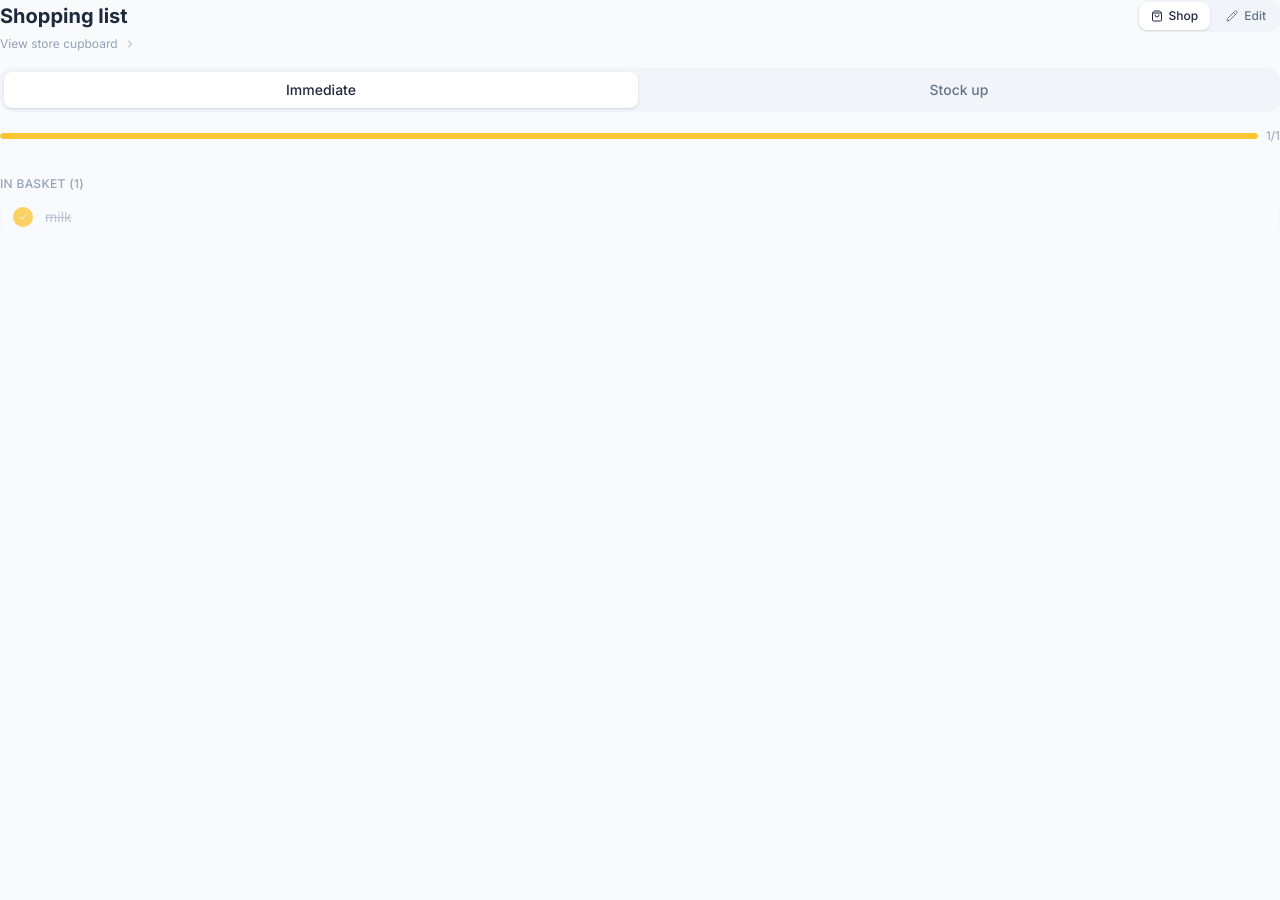
Test: ShoppingListPage — item sheet in edit mode › renames an item from the sheet
Click the button "Edit" at (1246, 16), box x1=1214 y1=2 x2=1278 y2=30
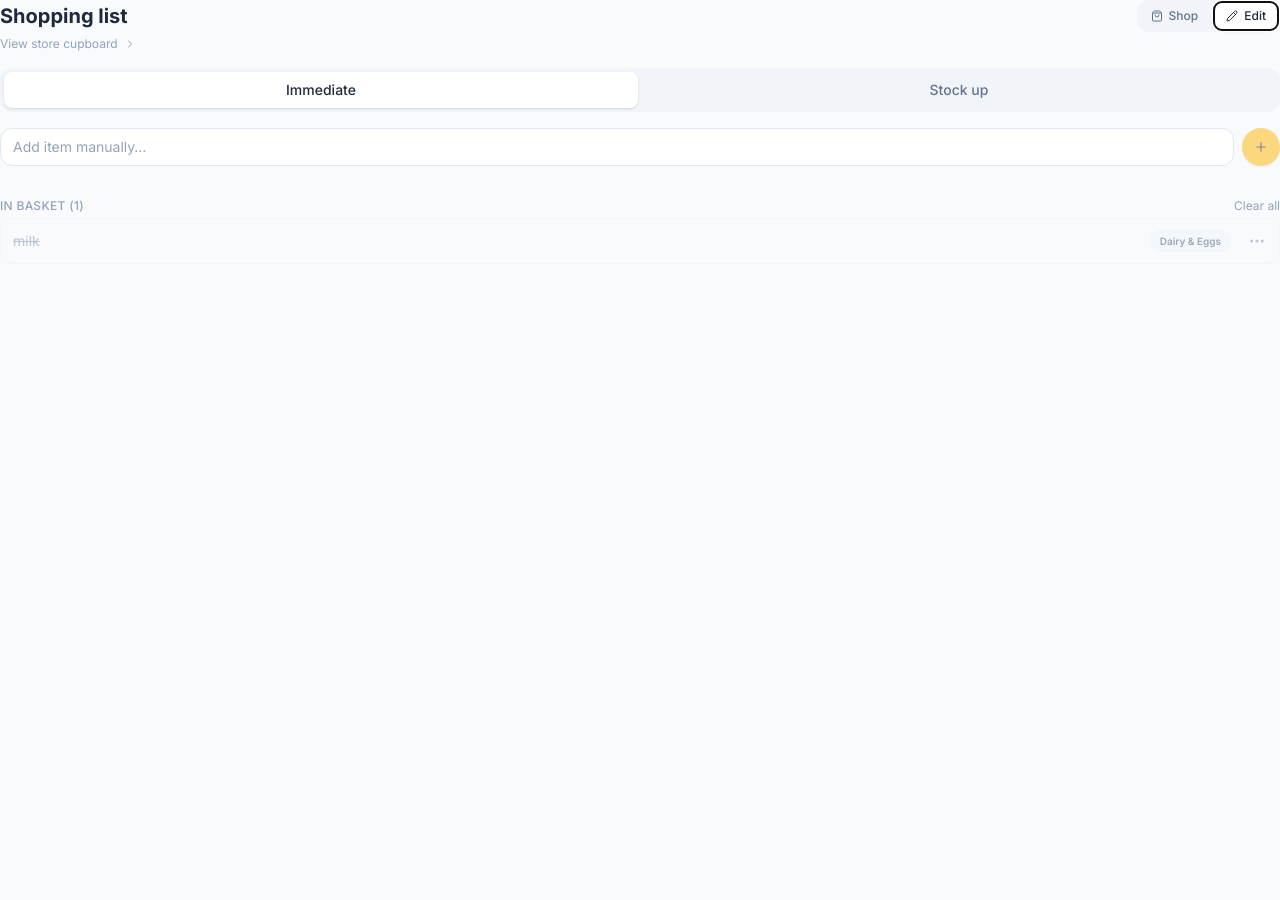
Click the button "milk Dairy & Eggs" at (1190, 241), box x1=13 y1=219 x2=1279 y2=263
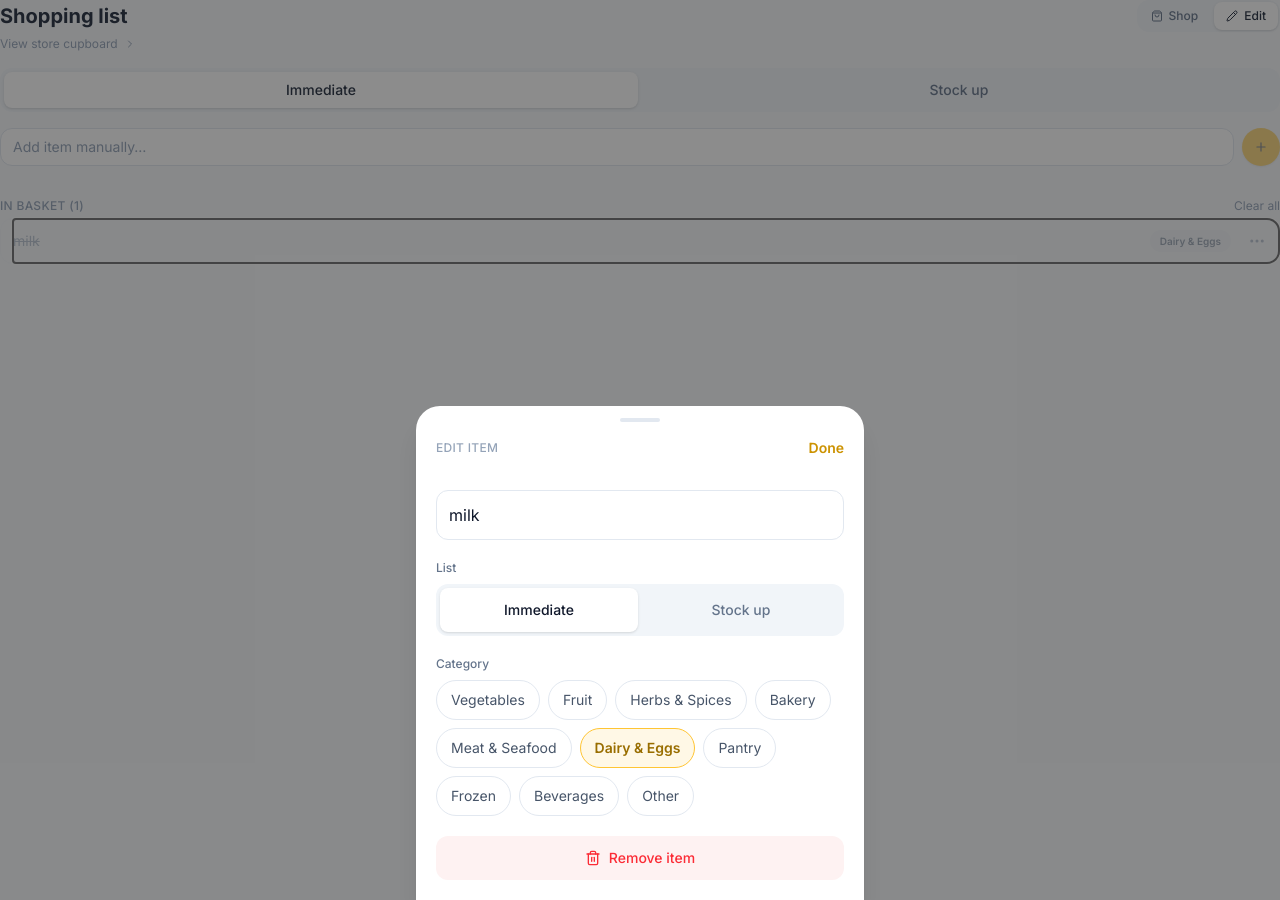
Replace the text in the field named "Item name" with "oat milk" at (640, 515), box x1=436 y1=490 x2=844 y2=540
Then press Enter
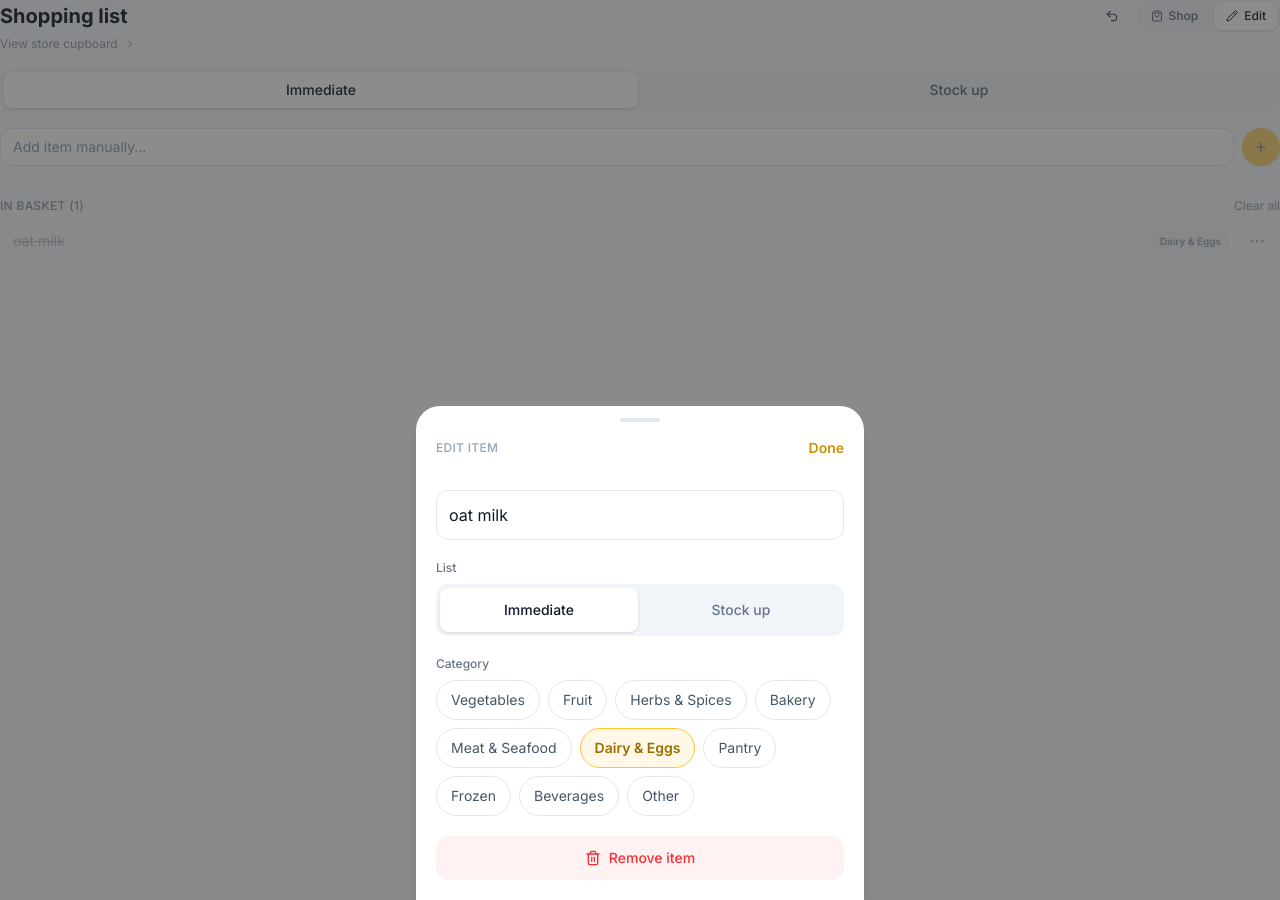
Click the button "Done" at (826, 448), box x1=800 y1=426 x2=852 y2=470
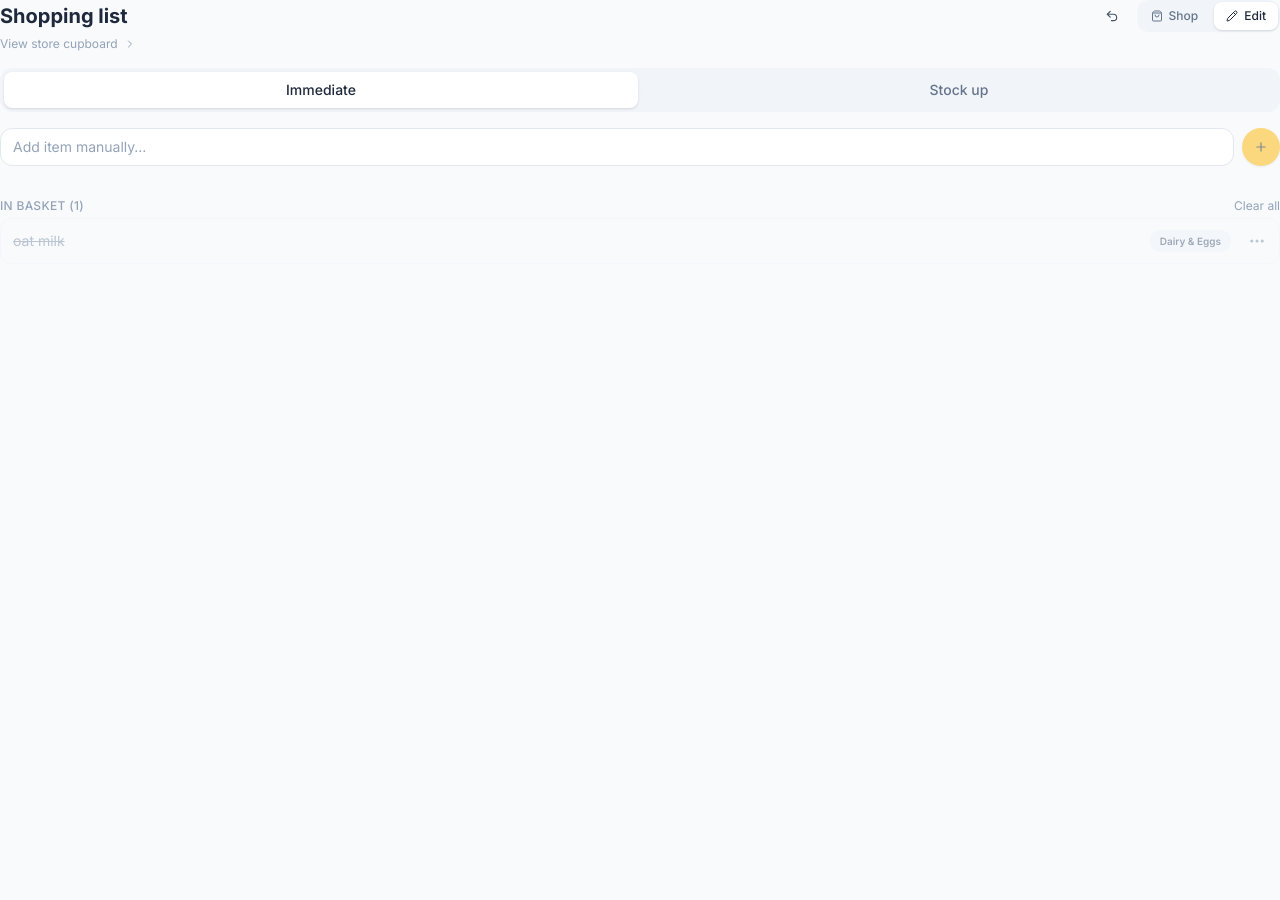
Expected: the text "oat milk" is shown, x1=13 y1=232 x2=65 y2=249
Expected: the dialog is gone
